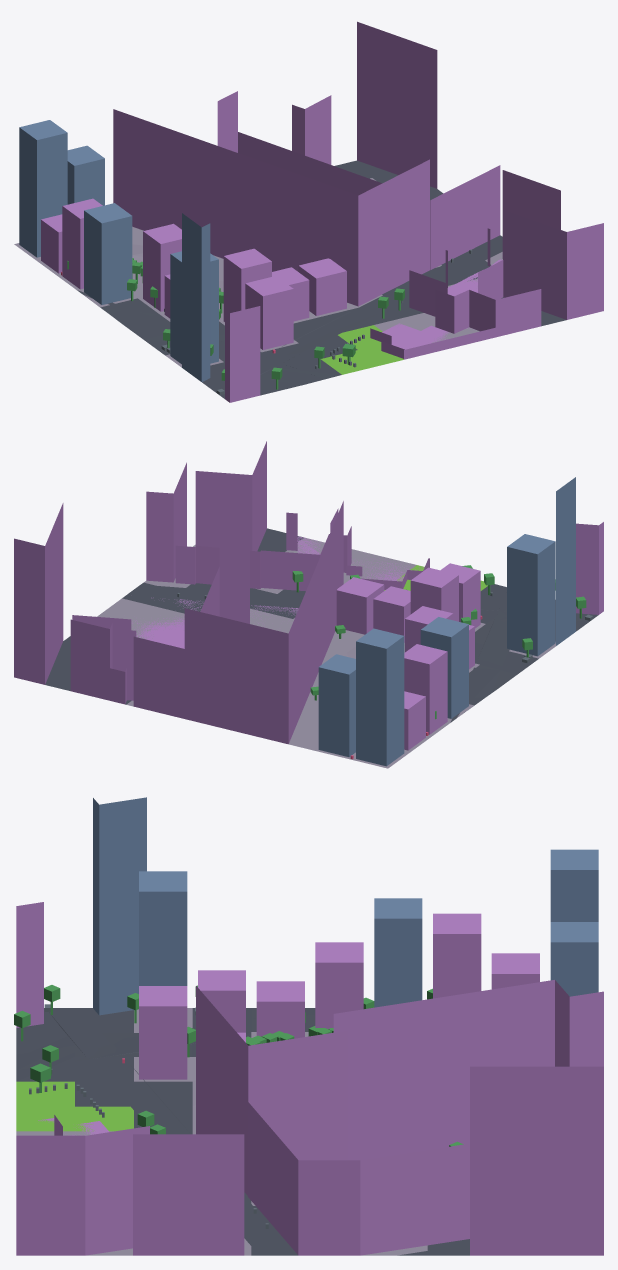
The picture shows the model from 3 angles, top to bottom: view 1: azimuth 30°, elevation 25°; view 2: azimuth 150°, elevation 25°; view 3: azimuth 270°, elevation 25°; orthographic projection. The views are drawn at different scales.
Visible parts, largest first — view 1: compiled-chunk; view 2: compiled-chunk; view 3: compiled-chunk.
Boxes of the visible parts, x1,y1,x2,y2 form: compiled-chunk: [14, 21, 603, 402]; compiled-chunk: [14, 441, 603, 768]; compiled-chunk: [14, 797, 603, 1255].
Size of the model in its own units: 120 by 47.49 by 120.
